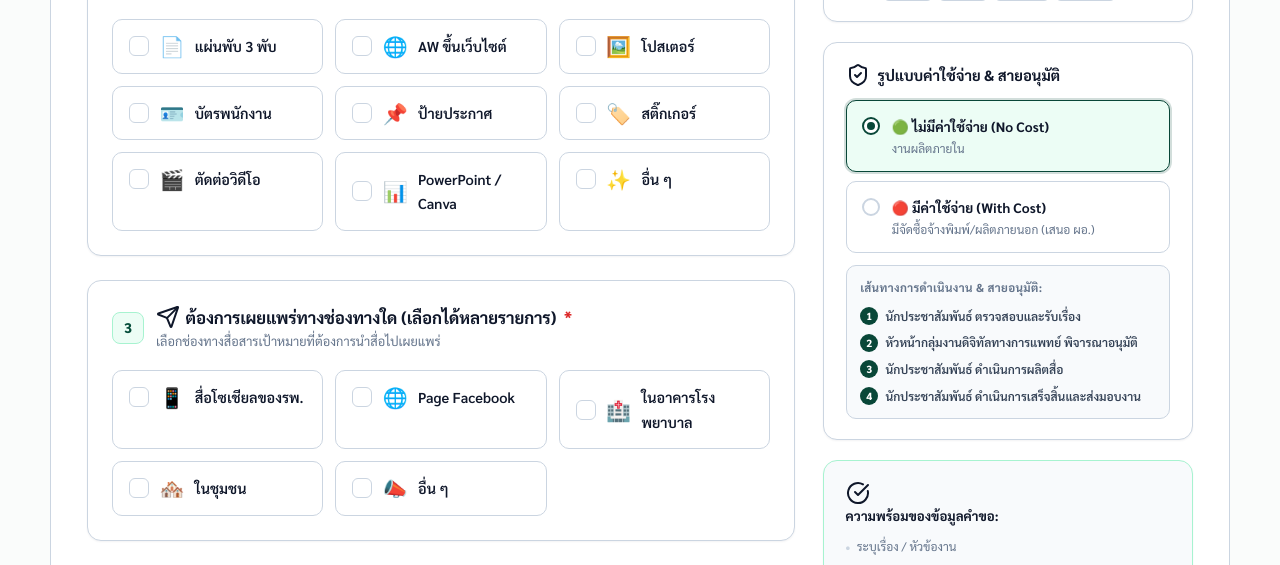
it: MediaRequestFormClient Component (Hallmark Anti-AI-Slop Redesign) › toggles cost type and displays quotation dropzone only when HAS_COST
(page scrolled)
Expected: the text "เอกสารใบเสนอราคา (Quotation)" is not shown
Note: Switch to HAS_COST
Click the radio button labelled "🔴 มีค่าใช้จ่าย (With Cost)": (1008,217) [846,181,1170,253]
(page scrolled)
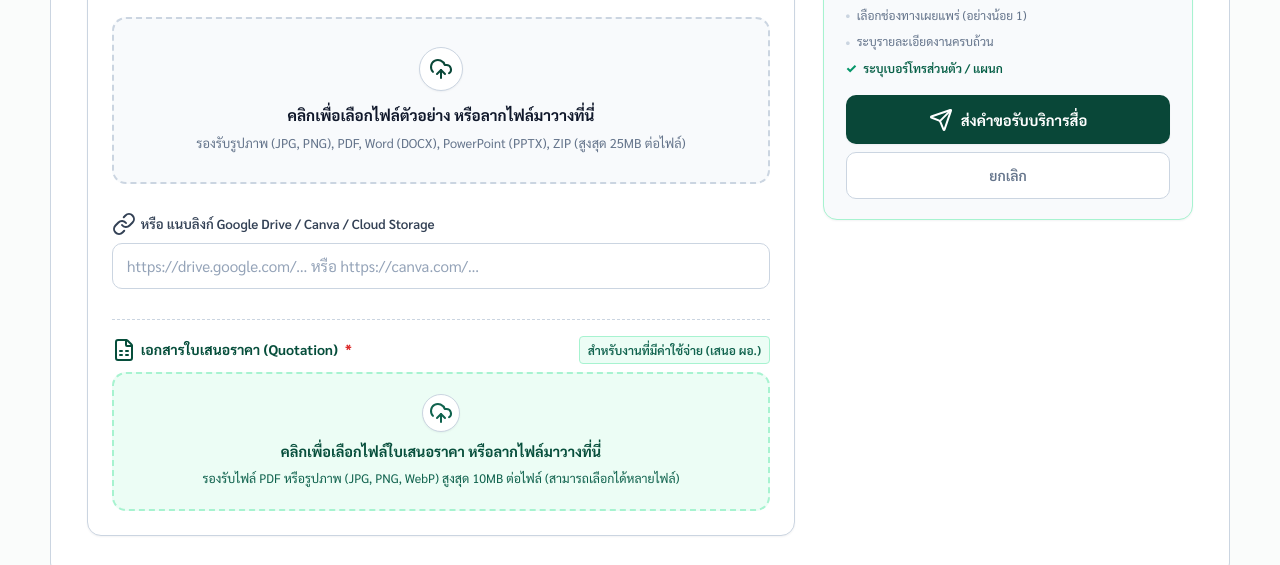
Now the text "เอกสารใบเสนอราคา (Quotation)" is shown, box [141,338,338,362]
Now the text "สำหรับงานที่มีค่าใช้จ่าย (เสนอ ผอ.)" is shown, box [579,336,770,364]
